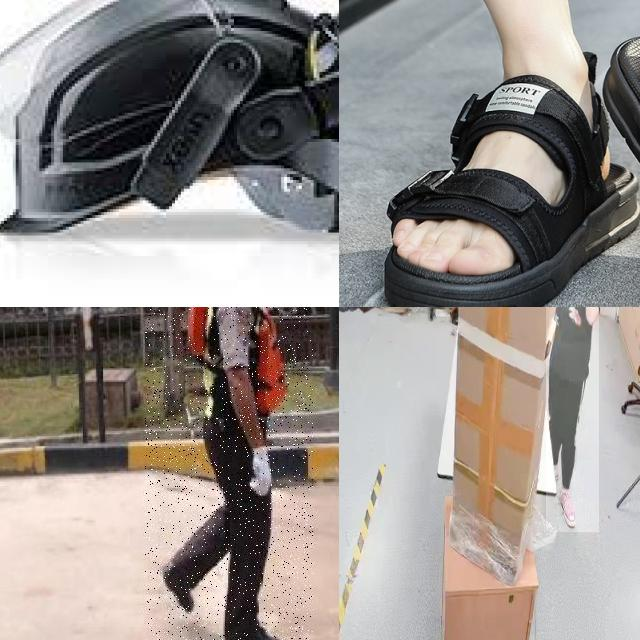Ear-protection: (301, 0, 339, 144)
Sandals: (339, 0, 640, 307)
boots: (160, 556, 196, 622), (220, 616, 286, 640)
head_helmet: (0, 0, 339, 238)
person: (145, 307, 313, 640), (546, 307, 599, 533)
shoes: (558, 483, 576, 526)
vest: (185, 307, 293, 433)
